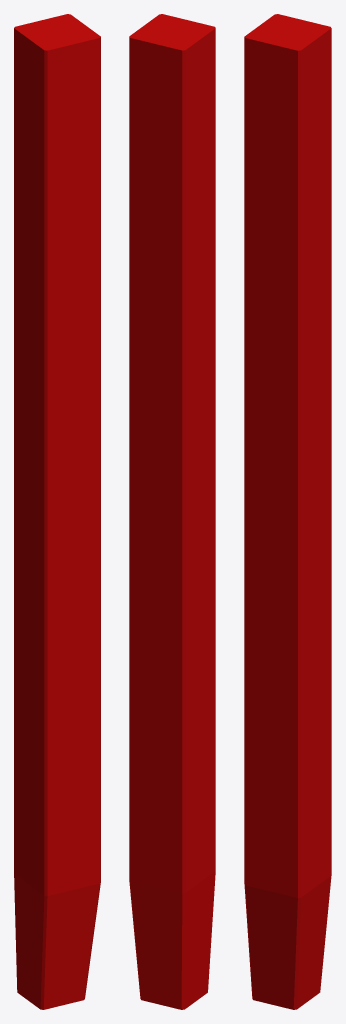
Rendered from original-25.obj.
3 views of the same model, side by side, from view 1: azimuth 30°, elevation 25°; view 2: azimuth 150°, elevation 25°; view 3: azimuth 330°, elevation 25° (orthographic).
Visible parts, largest first — view 1: Group_703_3/Group_703/mesh24/mesh24-geometry#mesh24-geometry; view 2: Group_703_3/Group_703/mesh24/mesh24-geometry#mesh24-geometry; view 3: Group_703_3/Group_703/mesh24/mesh24-geometry#mesh24-geometry.
Part boxes in pixels (x1,y1,x2,y2): Group_703_3/Group_703/mesh24/mesh24-geometry#mesh24-geometry: (14, 14, 100, 1009); Group_703_3/Group_703/mesh24/mesh24-geometry#mesh24-geometry: (129, 14, 215, 1009); Group_703_3/Group_703/mesh24/mesh24-geometry#mesh24-geometry: (244, 14, 331, 1009).
Bounding box in the file's own units: 0.047 × 0.7662 × 0.047.
